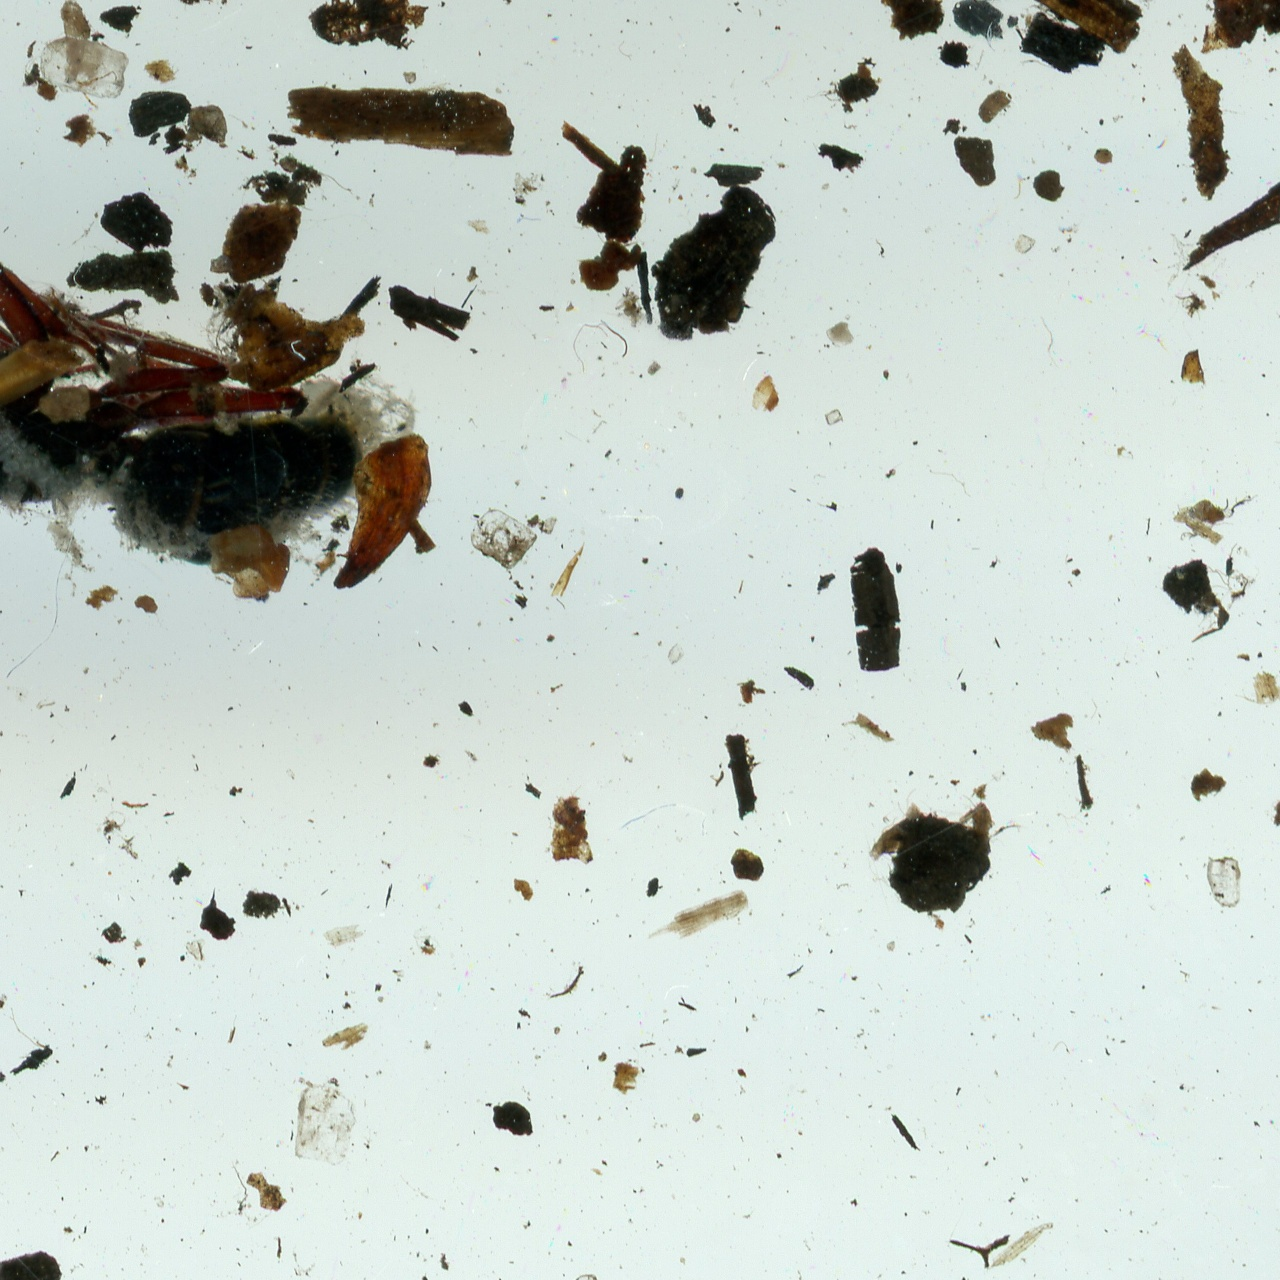arthropod: (0, 203, 402, 654)
